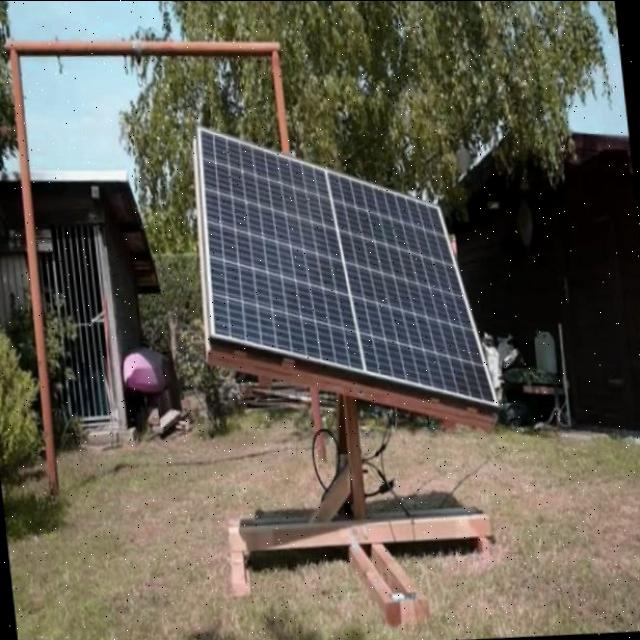Normal Solar Panel: (191, 111, 499, 428)
